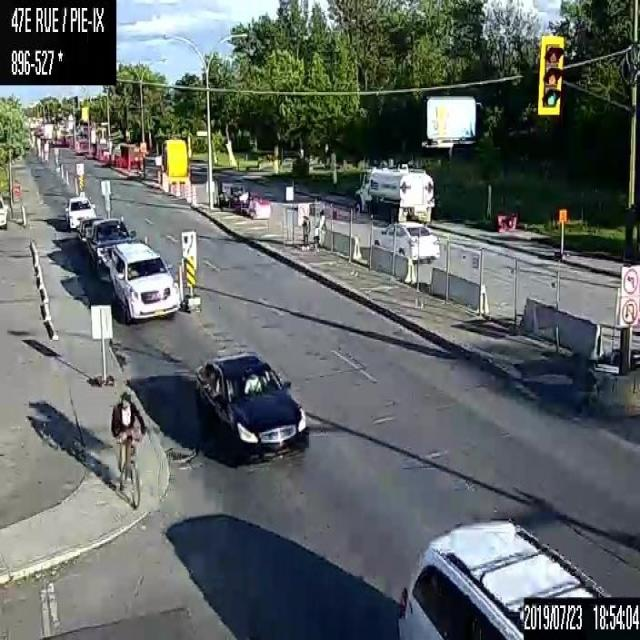construction: (177, 264, 183, 303), (191, 187, 196, 206), (179, 182, 183, 198), (143, 235, 147, 242)
cyclist: (109, 392, 145, 508)
pedestrian: (318, 208, 327, 246), (301, 212, 309, 250), (314, 223, 321, 249)
vehicle: (393, 513, 612, 639), (194, 349, 306, 456), (109, 242, 182, 322), (355, 161, 434, 222), (89, 216, 137, 286), (376, 216, 442, 262), (67, 195, 96, 229), (0, 194, 6, 228)
